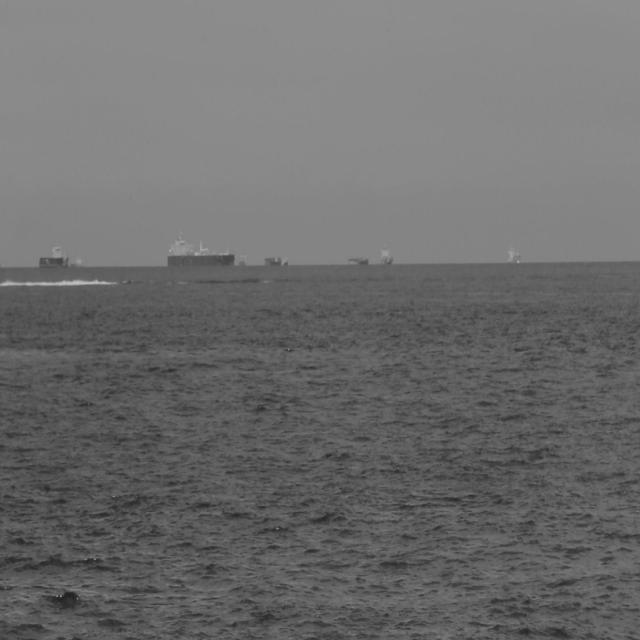ship: (167, 228, 236, 269), (38, 242, 70, 270), (506, 240, 522, 266), (379, 242, 394, 267), (346, 254, 369, 267), (264, 255, 282, 267), (282, 256, 290, 266)
